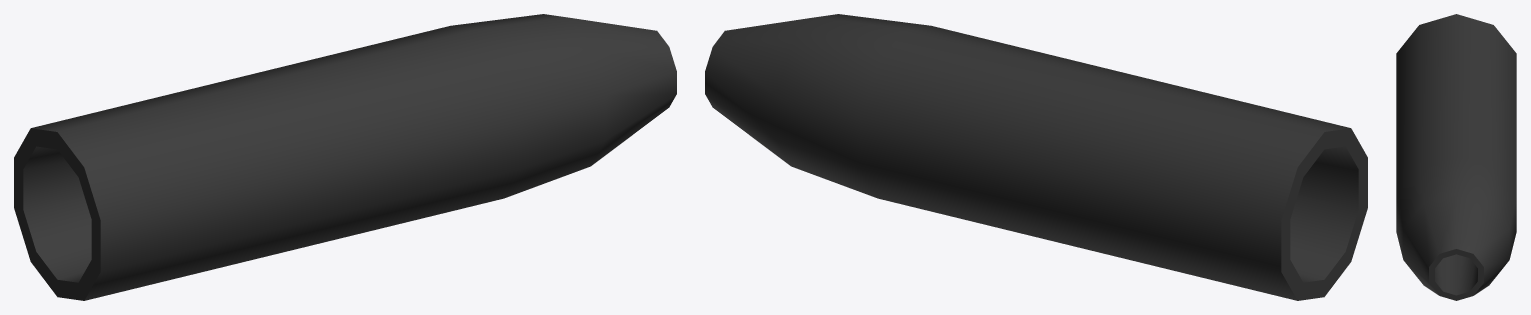
Rendered from kyappu.fbx.
3 renders of one model, left to right at view 1: azimuth 30°, elevation 25°; view 2: azimuth 150°, elevation 25°; view 3: azimuth 270°, elevation 25°, orthographic. The views are drawn at different scales.
Parts seen in each view (by area): view 1: kyappu; view 2: kyappu; view 3: kyappu.
Part boxes in pixels (x1,y1,x2,y2): kyappu: (14,14,676,300); kyappu: (705,14,1367,300); kyappu: (1396,14,1516,300).
Bounding box in the file's own units: 50.99 × 13.41 × 12.76.
1 material, 1 textured.
